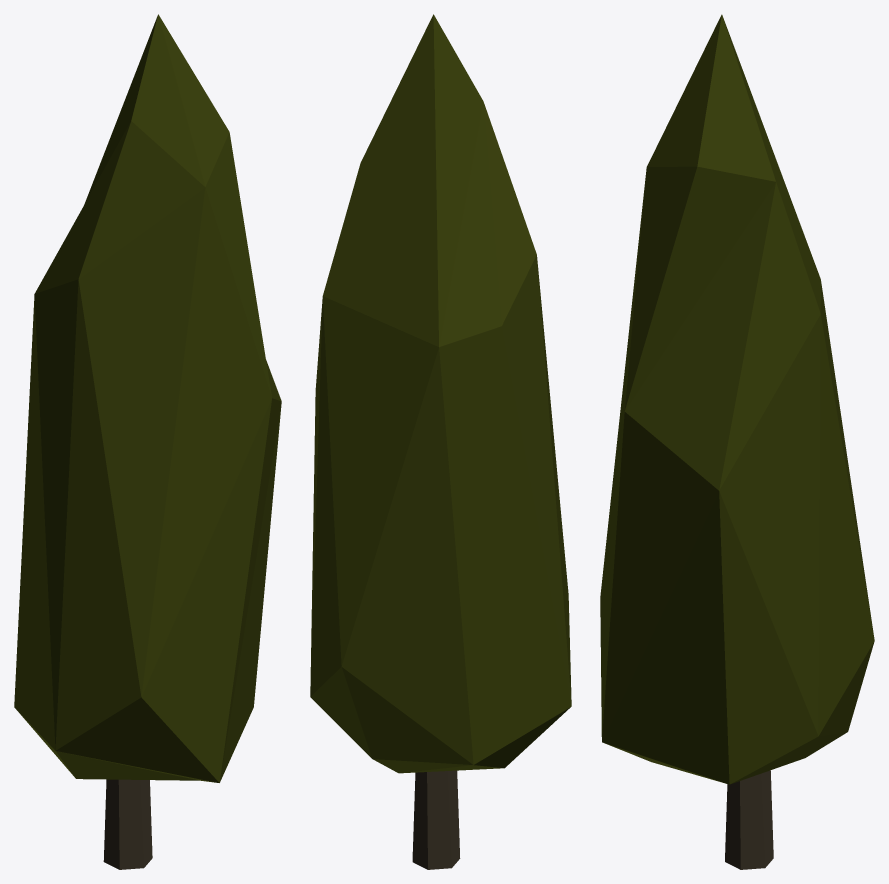
The model's file is roman_tree_cyprus_short.fbx.
3 renders of one model, left to right at view 1: azimuth 30°, elevation 25°; view 2: azimuth 150°, elevation 25°; view 3: azimuth 270°, elevation 25°, orthographic. The views are drawn at different scales.
Visible parts, largest first — view 1: Icosphere.003; view 2: Icosphere.003; view 3: Icosphere.003.
Part boxes in pixels (x1,y1,x2,y2): Icosphere.003: [14, 14, 281, 869]; Icosphere.003: [310, 14, 571, 869]; Icosphere.003: [600, 14, 874, 869].
Bounding box in the file's own units: 0.9215 × 3.07 × 0.8948.
1 material, 1 textured.
